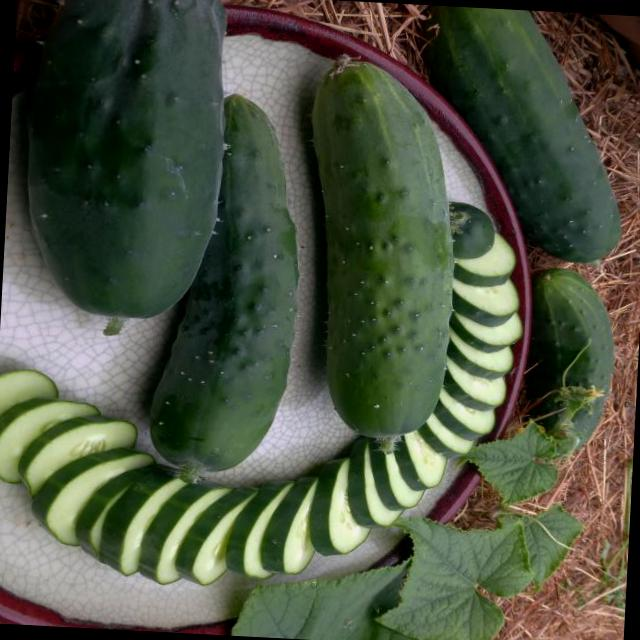Cucumber: (14, 0, 233, 322), (296, 62, 462, 440), (143, 94, 304, 469), (410, 6, 632, 262), (518, 266, 618, 459)
